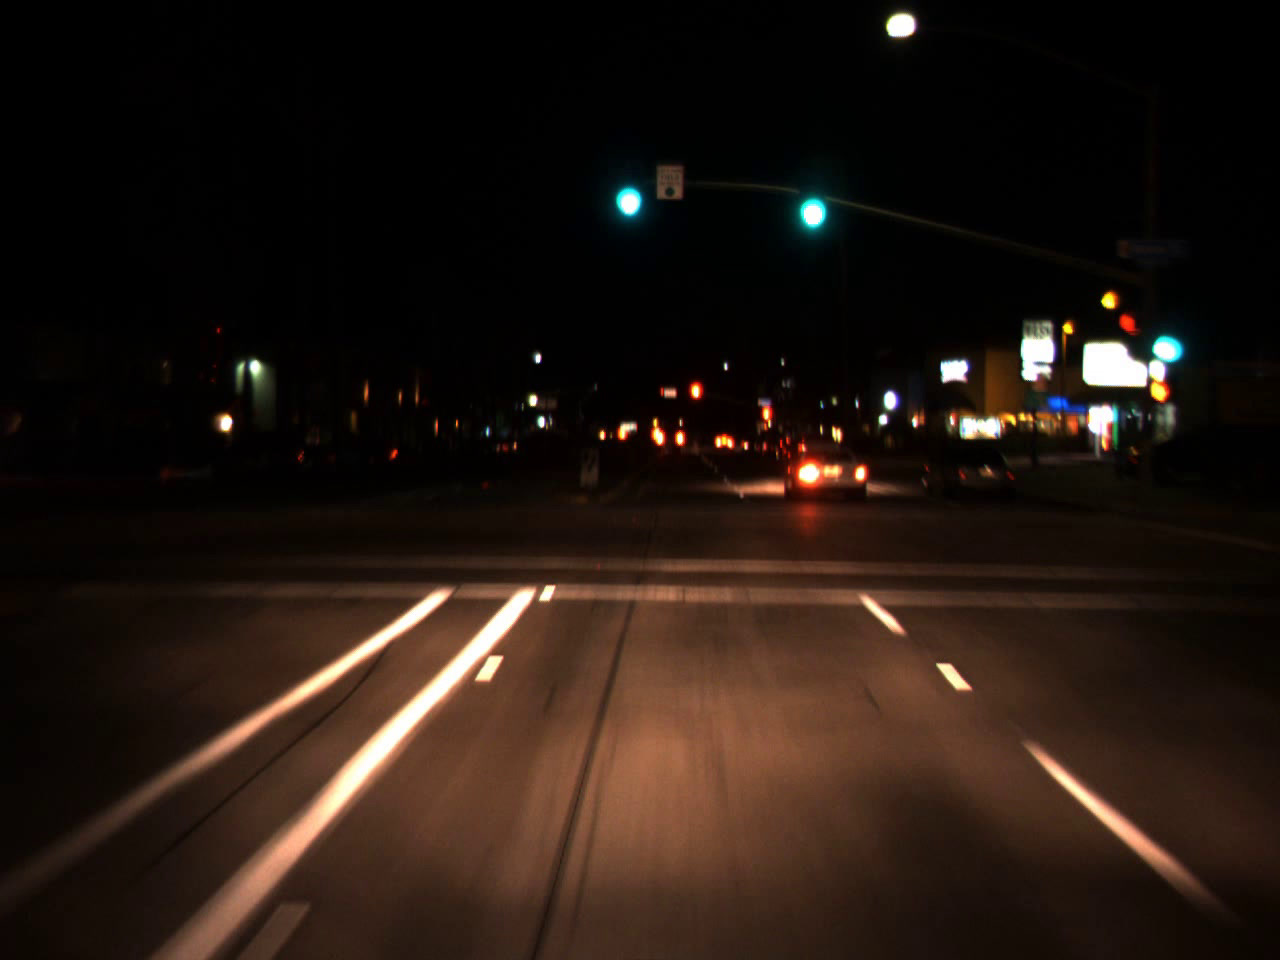go: (789, 158, 833, 242), (605, 153, 648, 225), (1143, 316, 1180, 367)
stop: (688, 379, 703, 419), (759, 402, 772, 445)
